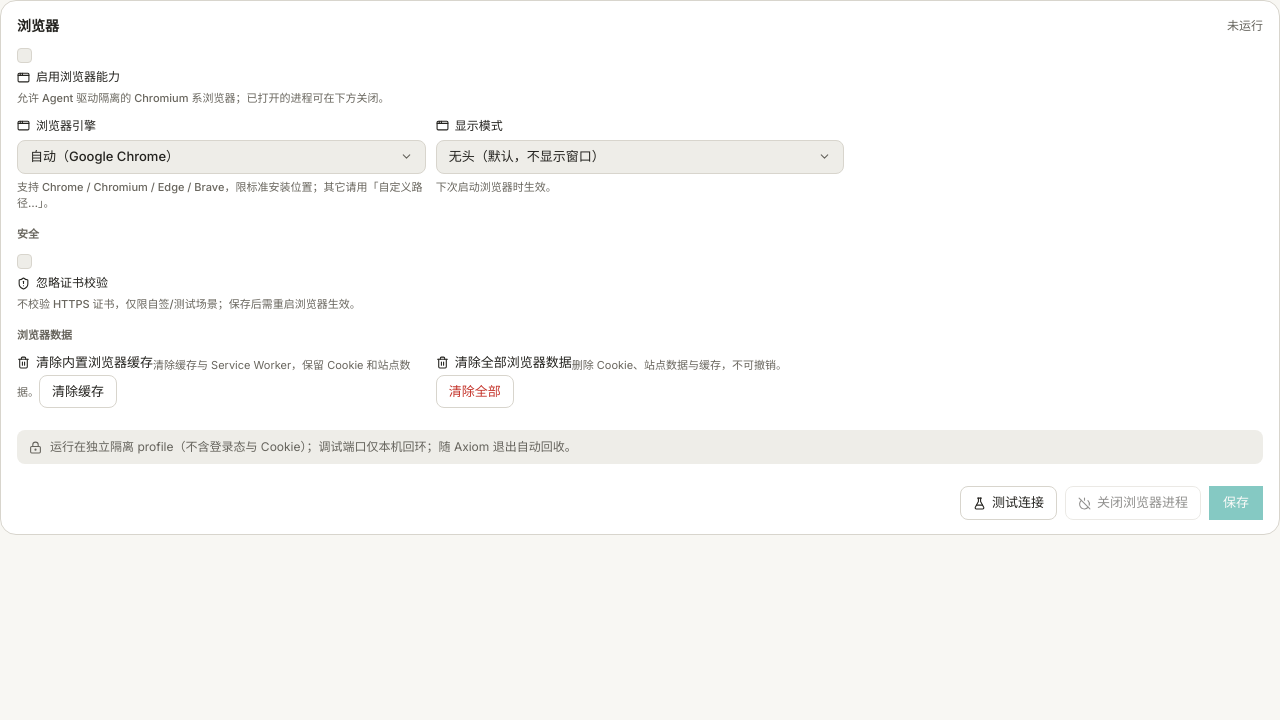
Test: BrowserSection › 校验失败时保存报错且不落盘
Click the checkbox labelled "启用浏览器能力". click: point(24, 56)
box: [17,48,32,63]
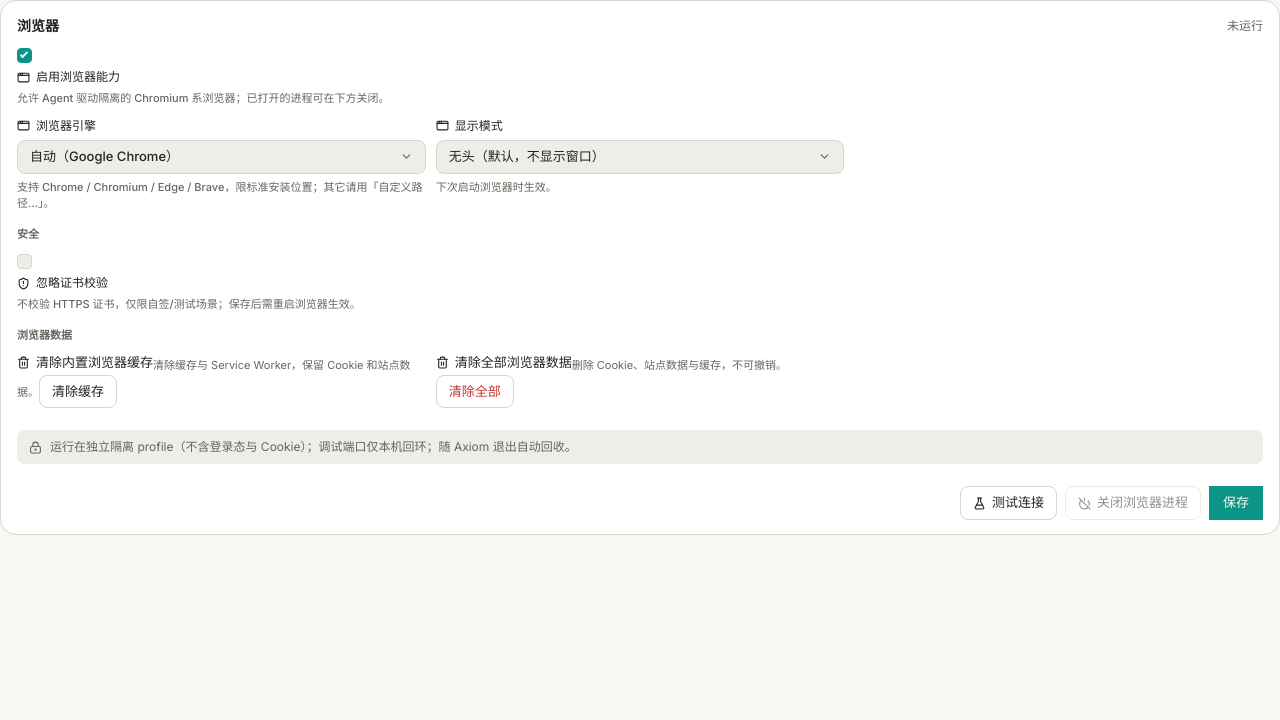
Select "自定义路径…" in the dropdown labelled "浏览器引擎". click: point(221, 156)
box: [17,140,426,174]
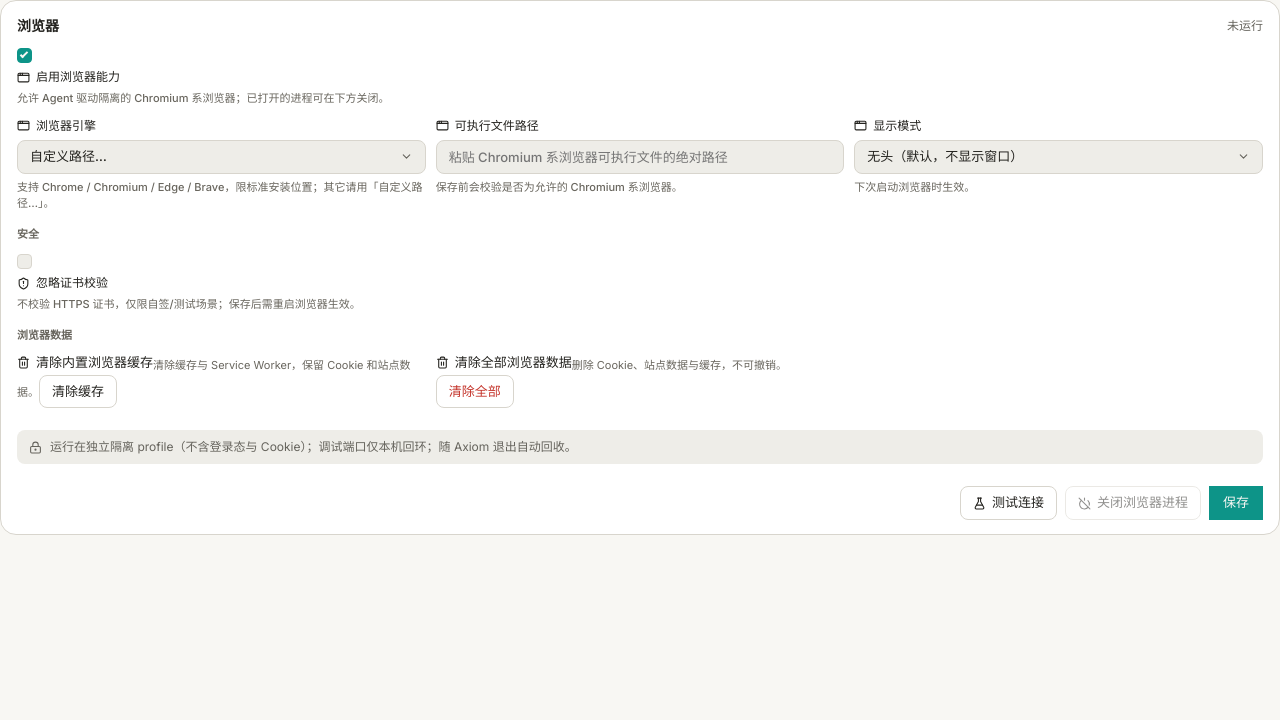
Type "/Applications/Safari.app/Contents/MacOS/Safari" into the field named "浏览器可执行文件路径（可选）". click: point(640, 156)
box: [436,140,844,174]
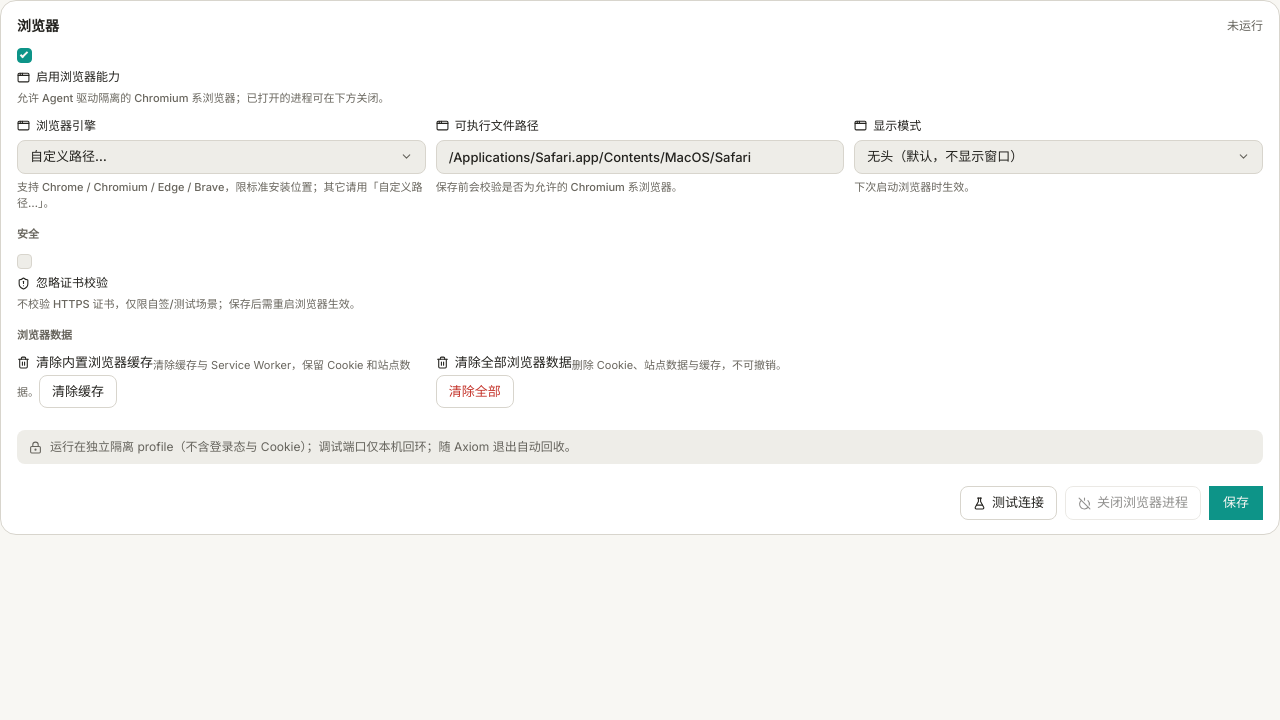
Now the button "保存" is enabled
Click the button "保存". click: point(1236, 503)
box: [1209,486,1263,520]
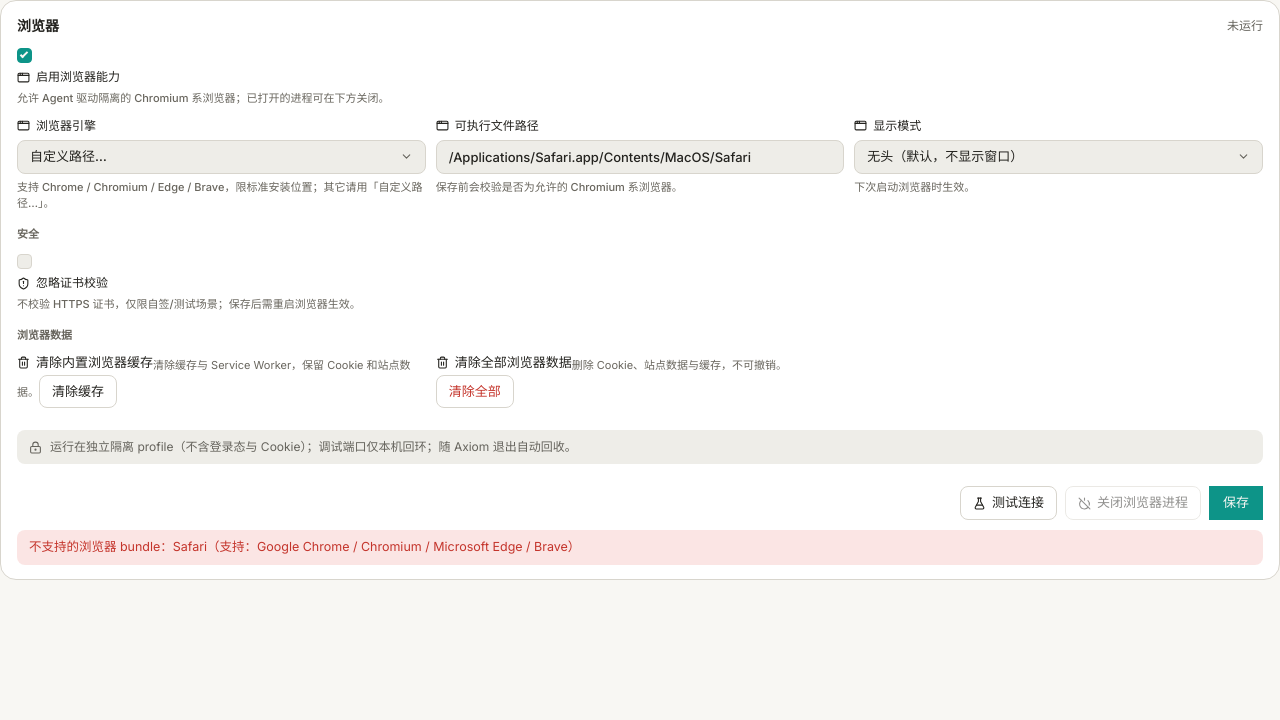
Now the text "不支持的浏览器 bundle" is shown, box [29,539,580,554]
